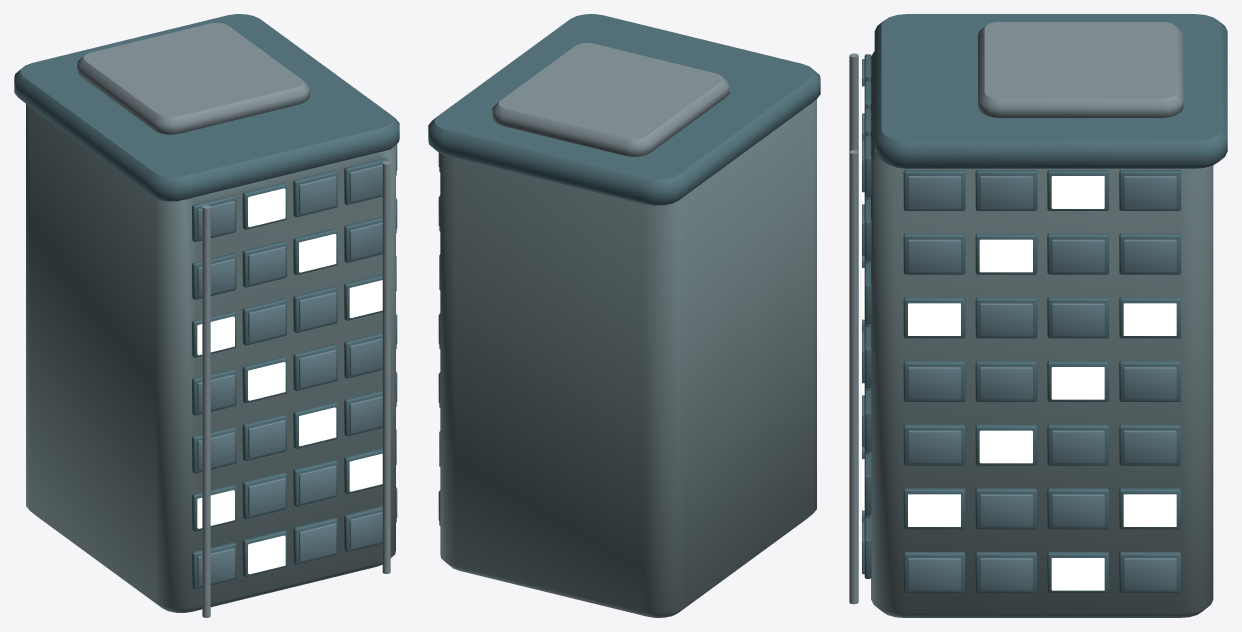
File: metro_tower_2.glb
The picture shows the model from 3 angles, left to right: view 1: azimuth 30°, elevation 25°; view 2: azimuth 150°, elevation 25°; view 3: azimuth 270°, elevation 25°; orthographic projection. The views are drawn at different scales.
Visible parts, largest first — view 1: Metro_Tower_2; view 2: Metro_Tower_2; view 3: Metro_Tower_2.
Part boxes in pixels (box(x1,y1,x2,y2)): Metro_Tower_2: box(14, 14, 399, 617); Metro_Tower_2: box(428, 14, 820, 617); Metro_Tower_2: box(849, 14, 1227, 617).
Size of the model in its own units: 5.37 by 9.31 by 6.41.
